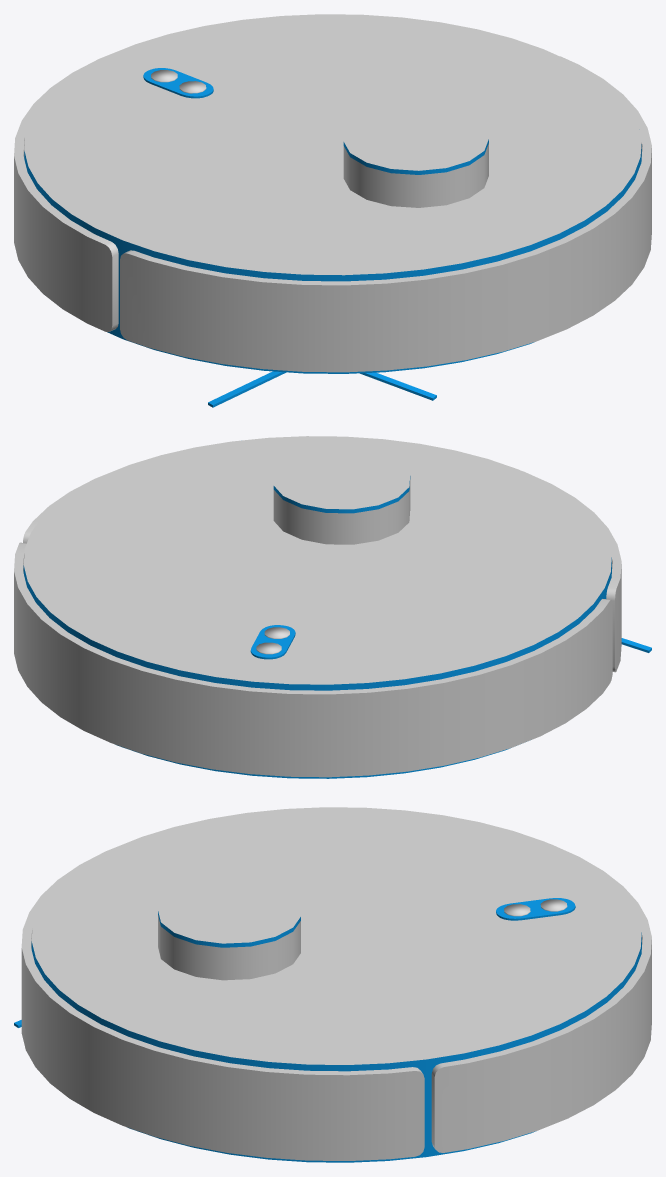
The model's file is SM_Aspiradoras.fbx.
3 renders of one model, top to bottom at view 1: azimuth 30°, elevation 25°; view 2: azimuth 150°, elevation 25°; view 3: azimuth 270°, elevation 25°, orthographic. The views are drawn at different scales.
Visible parts, largest first — view 1: RobotVacuum_body, RobotVacuum_details; view 2: RobotVacuum_body, RobotVacuum_details; view 3: RobotVacuum_body, RobotVacuum_details.
Part boxes in pixels (x1,y1,x2,y2): RobotVacuum_body: (14, 14, 651, 372); RobotVacuum_details: (24, 68, 641, 407); RobotVacuum_body: (14, 436, 621, 777); RobotVacuum_details: (23, 476, 651, 778); RobotVacuum_body: (21, 807, 651, 1160); RobotVacuum_details: (14, 898, 641, 1162).
Bounding box in the file's own units: 30.61 × 8.38 × 30.98.
